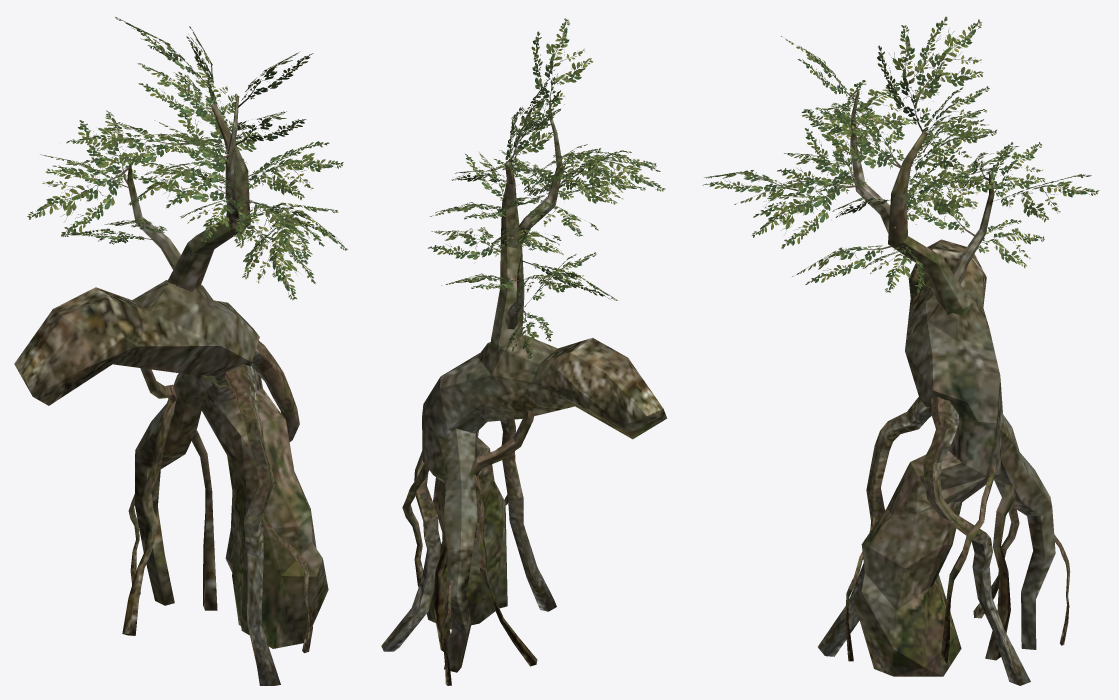
File: bg_anh_tree_deadtree01_sm_ysi.FBX
3 renders of one model, left to right at view 1: azimuth 30°, elevation 25°; view 2: azimuth 150°, elevation 25°; view 3: azimuth 270°, elevation 25°, orthographic. The views are drawn at different scales.
Visible parts, largest first — view 1: bg_anh_tree_deadtree01_sm_ysi; view 2: bg_anh_tree_deadtree01_sm_ysi; view 3: bg_anh_tree_deadtree01_sm_ysi.
Part boxes in pixels (bbox=[...]): bg_anh_tree_deadtree01_sm_ysi: bbox=[14, 17, 347, 685]; bg_anh_tree_deadtree01_sm_ysi: bbox=[381, 18, 666, 685]; bg_anh_tree_deadtree01_sm_ysi: bbox=[702, 16, 1099, 685].
Bounding box in the file's own units: 174 × 370 × 218.
